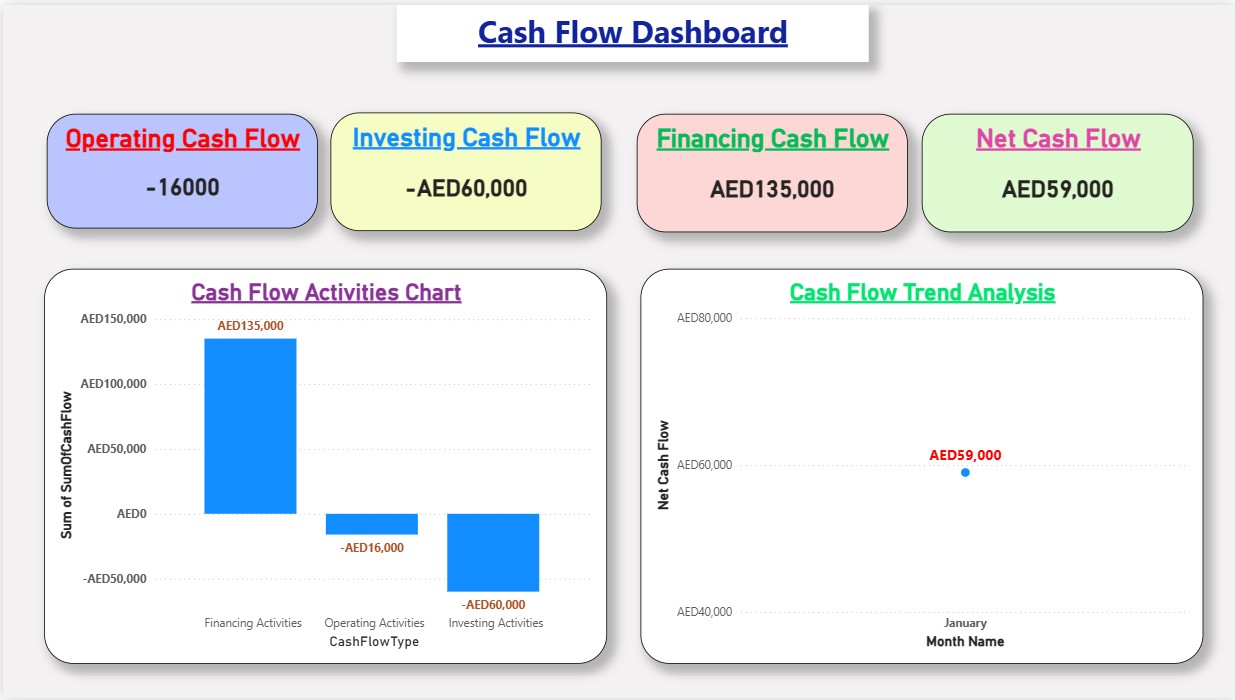

The page's visual inventory and layout, read from the dashboard file:
{"tool":"powerbi","page":{"name":"Cash Flow Dashboard","canvas":[1280,720],"ordinal":3},"visuals":[{"type":"textbox","box":[408.5,0,490.8,59.4],"z":0},{"type":"card","title":"Operating Cash Flow","fields":{"Values":["Measures 1.Operating Cash Flow"]},"box":[28.8,112.5,281.3,119.4],"z":1000},{"type":"card","title":"Investing Cash Flow","fields":{"Values":["Measures 1.Investing Cash Flow"]},"box":[323.8,111.1,281.3,123.5],"z":2000},{"type":"card","title":"Financing Cash Flow","fields":{"Values":["Measures 1.Financing Cash Flow"]},"box":[617.5,112.5,281.3,123.5],"z":3000},{"type":"card","title":"Net Cash Flow","fields":{"Values":["Measures 1.Net Cash Flow"]},"box":[913.9,112.5,282.7,123.5],"z":4000},{"type":"clusteredColumnChart","title":"Cash Flow Activities Chart","fields":{"Category":["qry_Cash_Flow_Statement.CashFlowType"],"Y":["Sum(qry_Cash_Flow_Statement.SumOfCashFlow)"]},"box":[55.3,273.5,584.9,410.3],"z":5000},{"type":"lineChart","title":"Cash Flow Trend Analysis","fields":{"Category":["Calender.Month Name"],"Y":["Measures 1.Net Cash Flow"]},"box":[675.1,273.5,584.9,410.3],"z":6000}]}

Visuals, with their boxes in screenshot pixels (x1, y1, x2, y2), scaled from the page's 1280x720 canvas onto the 1235x700 screenshot:
textbox: l=394, t=0, r=868, b=58
"Operating Cash Flow" card: l=28, t=109, r=299, b=225
"Investing Cash Flow" card: l=312, t=108, r=584, b=228
"Financing Cash Flow" card: l=596, t=109, r=867, b=229
"Net Cash Flow" card: l=882, t=109, r=1155, b=229
"Cash Flow Activities Chart" clusteredColumnChart: l=53, t=266, r=618, b=665
"Cash Flow Trend Analysis" lineChart: l=651, t=266, r=1216, b=665
